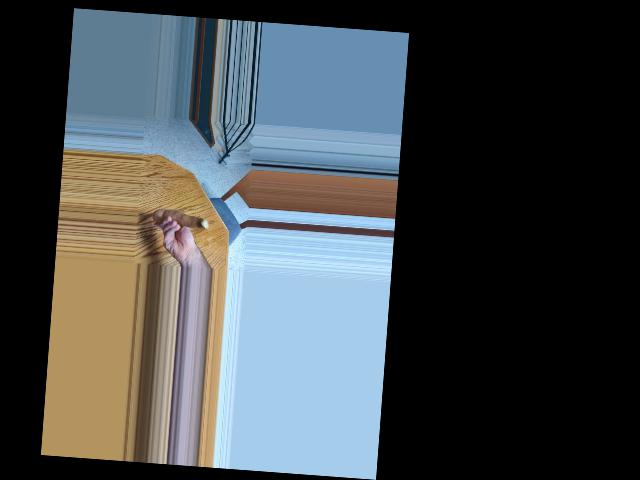sweet_potato: (151, 206, 207, 234)
